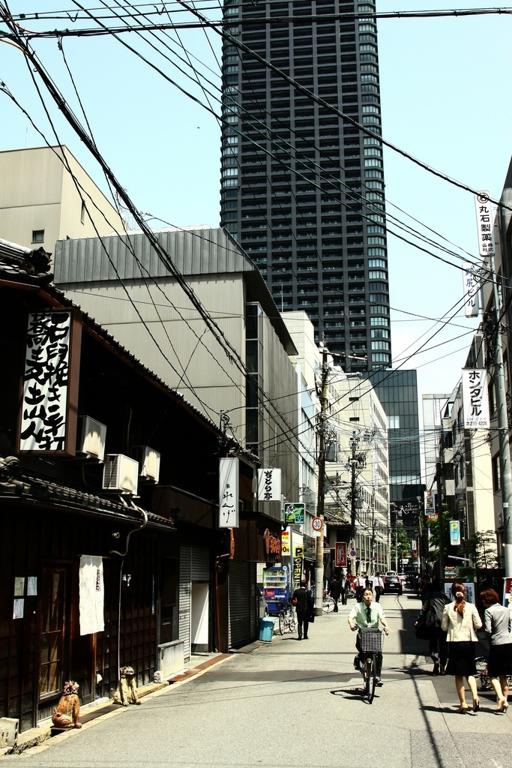non-vehicle: (354, 623, 389, 703), (311, 584, 335, 612), (278, 600, 295, 635)
